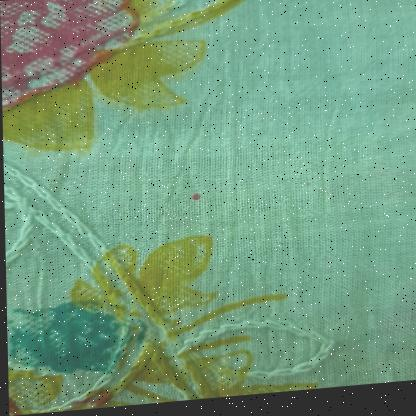spot: (185, 193, 206, 207)
